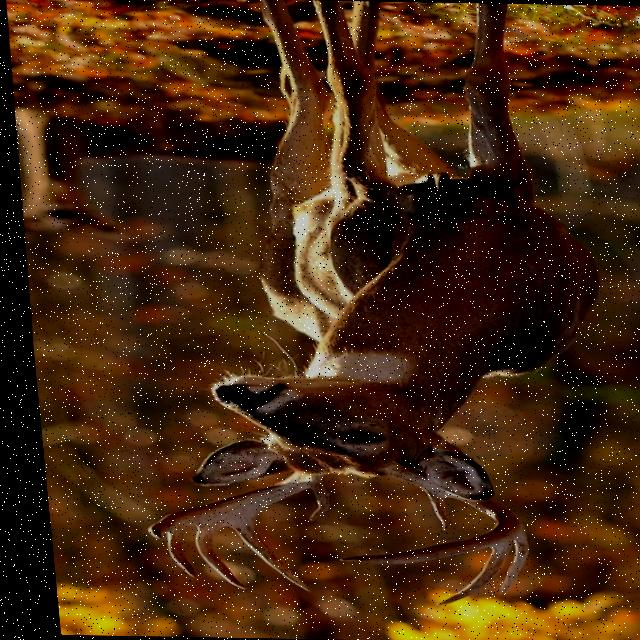L-F: (136, 470, 314, 538)
L-G1: (297, 482, 321, 521)
L-G2: (214, 517, 299, 592)
L-G3: (182, 525, 235, 590)
L-G4: (154, 525, 184, 578)
R-F: (328, 461, 511, 565)
R-G1: (409, 487, 440, 531)
R-G2: (422, 540, 503, 605)
R-G3: (486, 523, 517, 594)
